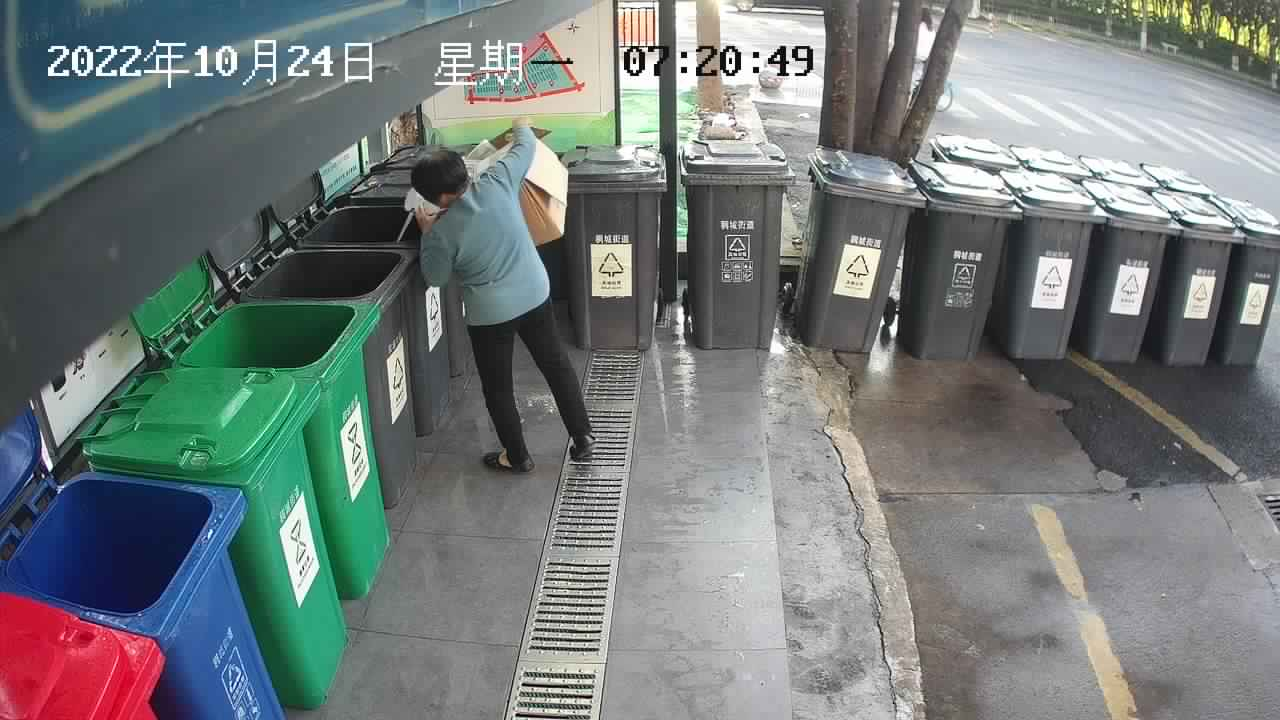person: (408, 112, 602, 479)
zhizhipin: (398, 121, 577, 250)
